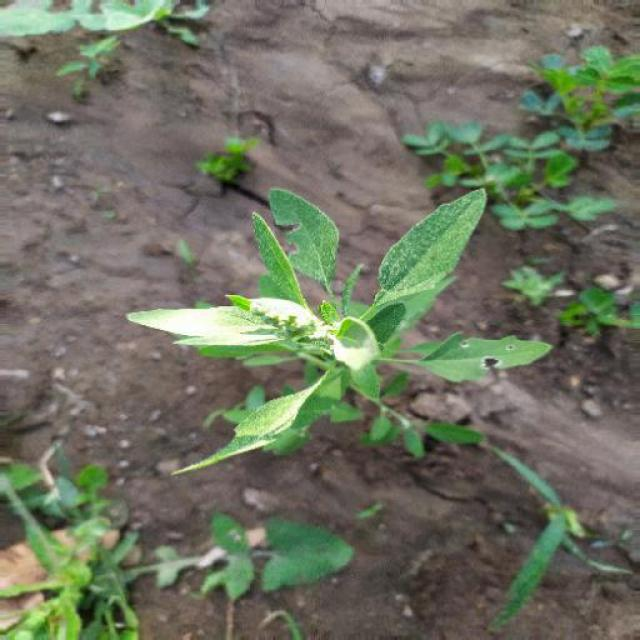weed: (144, 198, 546, 492)
